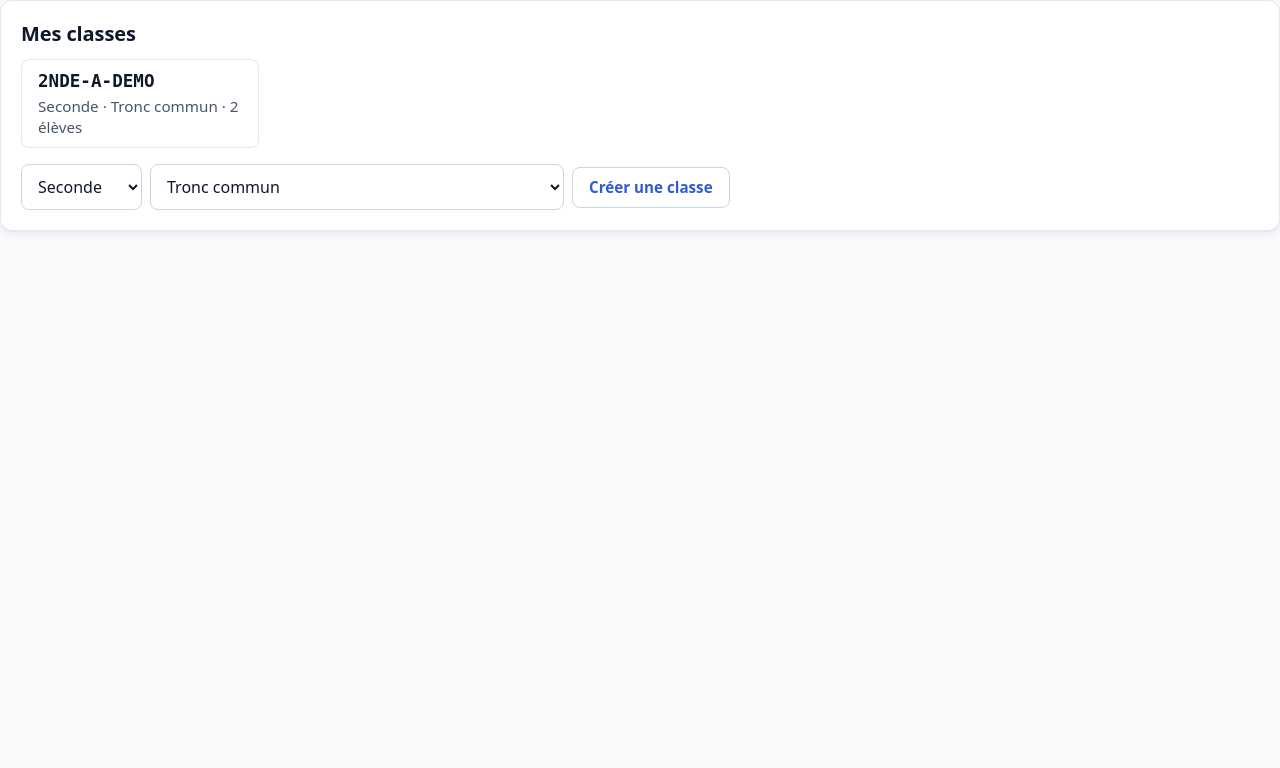
it: classes et élèves › affiche le tableau de bord d'une classe
The image size is (1280, 768).
What coordinates should you click on to do the following:
click the button "2NDE-A-DEMO Seconde · Tronc commun · 2 élèves"
I would click on:
 (140, 104)
Its box is [21,59,259,148].
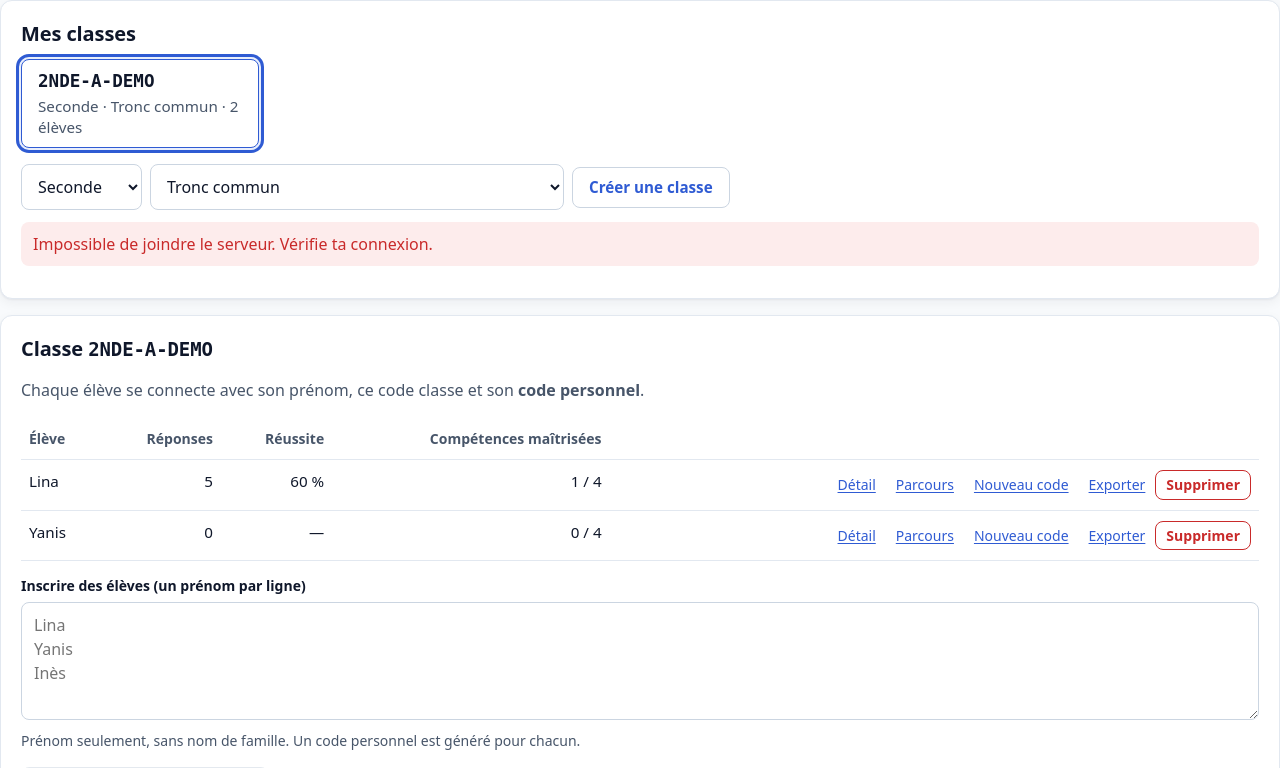
Expected: the text "60 %" is shown, [221,460,332,510]
Expected: the text "1 / 4" is shown, [332,460,610,510]
Expected: the text "—" is shown, [221,510,332,561]
